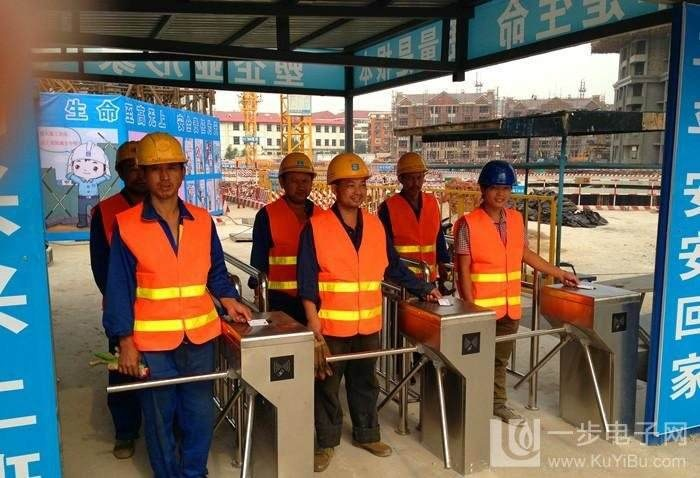blue: (477, 160, 518, 210)
yellow: (136, 131, 187, 202), (325, 151, 372, 211), (277, 151, 315, 200), (392, 150, 428, 195), (112, 140, 138, 189)
